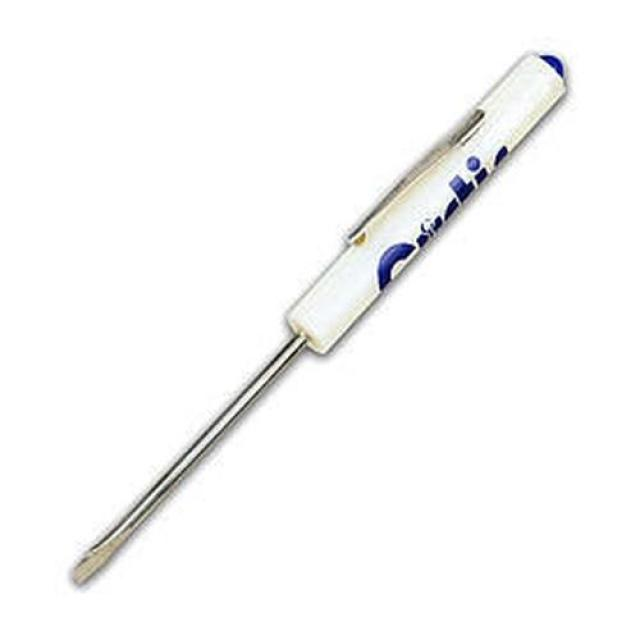screw driver: (13, 49, 637, 598)
